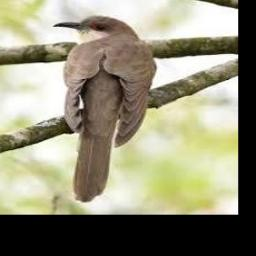Cuckoo: (53, 15, 156, 202)
